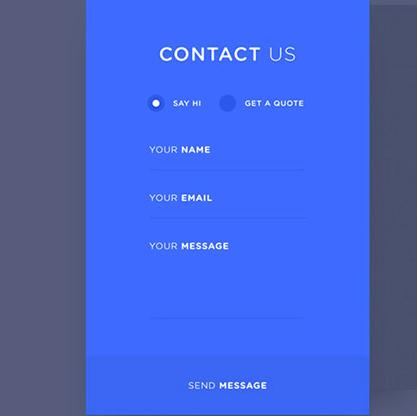field_line: (148, 240, 306, 321), (147, 143, 308, 172), (148, 192, 307, 220)
radio: (219, 93, 238, 112), (148, 94, 166, 111)
radio_with_label: (216, 91, 304, 114), (146, 91, 204, 113)
